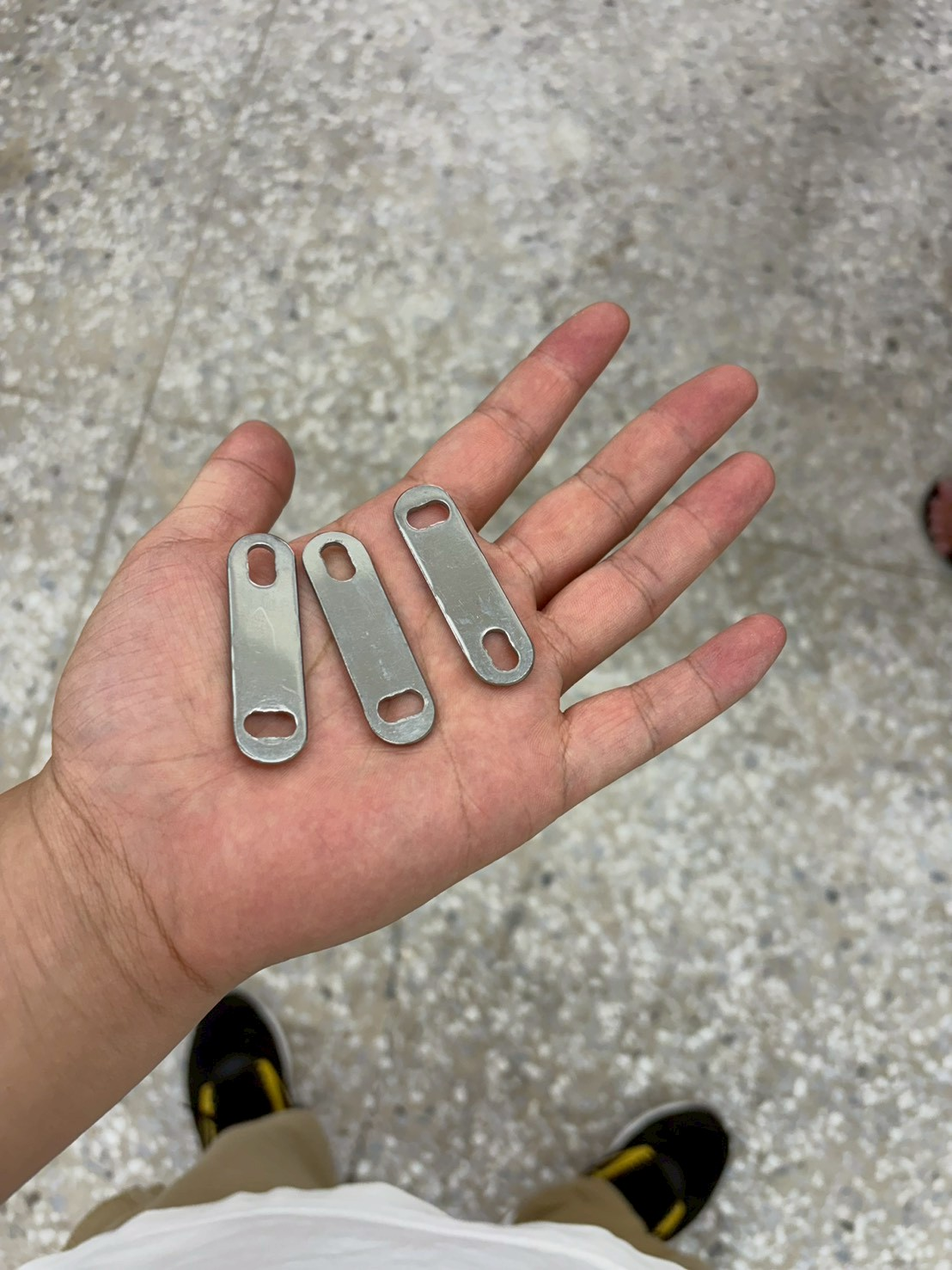Fe: (221, 533, 298, 768), (379, 500, 449, 735), (292, 543, 362, 778)
